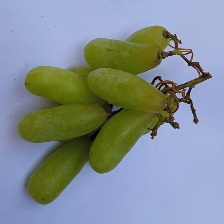grapes: (6, 15, 190, 199)
